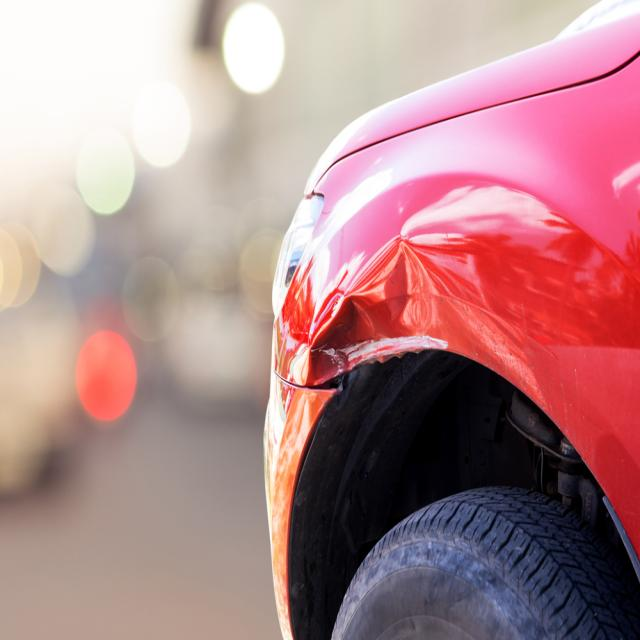Cabossage: (297, 239, 519, 389)
Rayure: (312, 335, 456, 381)
